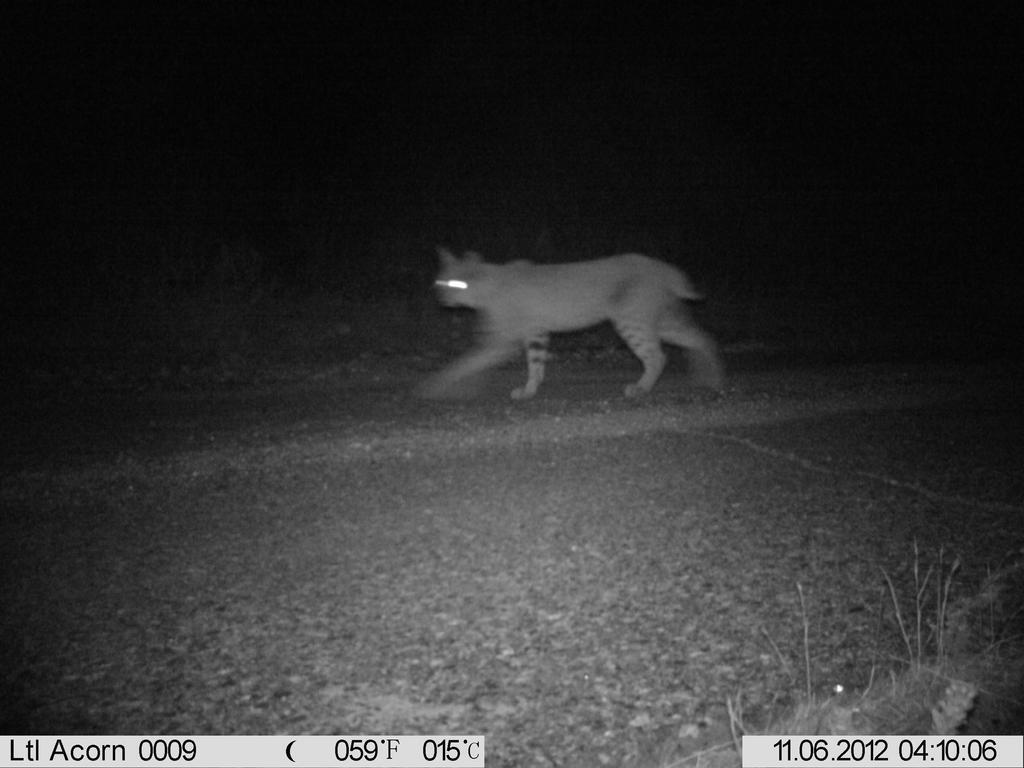bobcat: (420, 232, 716, 424)
